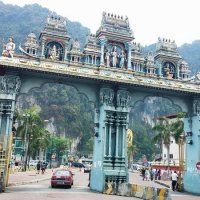Hindu Temple: (11, 13, 193, 97)
